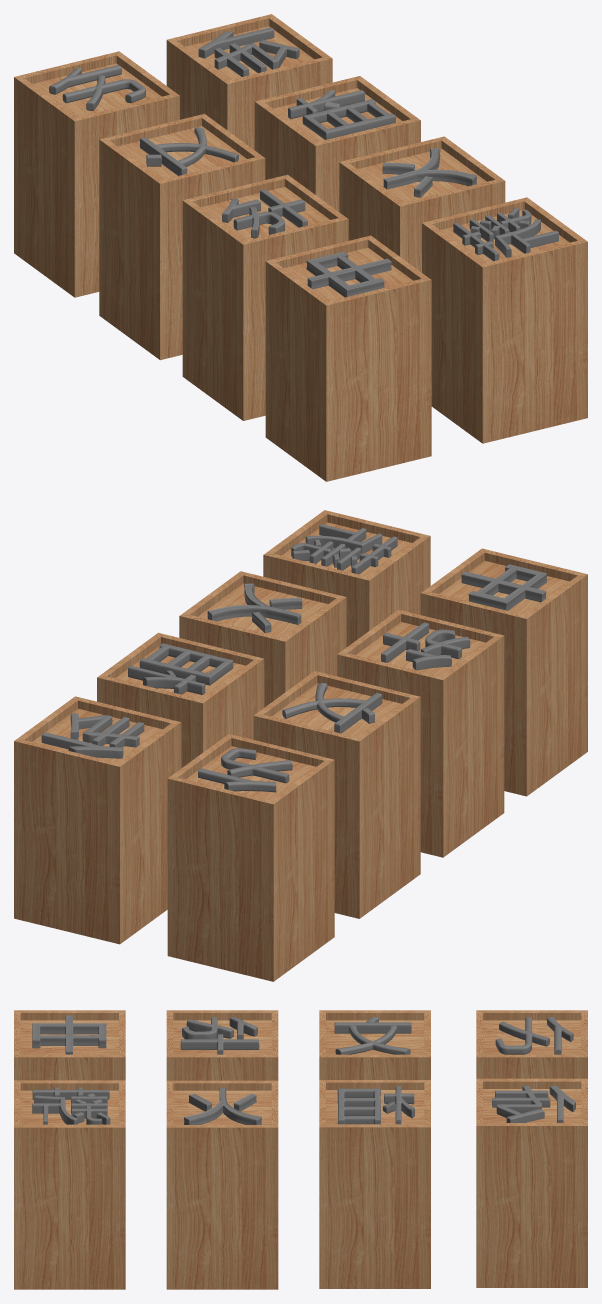
Rendered from 活字印刷术.fbx.
The picture shows the model from 3 angles, top to bottom: view 1: azimuth 30°, elevation 25°; view 2: azimuth 150°, elevation 25°; view 3: azimuth 270°, elevation 25°; orthographic projection. The views are drawn at different scales.
Visible parts, largest first — view 1: Box001, Box005, Box004, Box003, Box002, Box006, Box008, Box007, tripo_node_428c502d, tripo_node_c752f9d8, tripo_node_b8163ebf, tripo_node_fd4ff9de (+4 smaller); view 2: Box004, Box008, Box003, Box002, Box001, Box006, Box007, Box005, tripo_node_428c502d, tripo_node_c752f9d8, tripo_node_b8163ebf, tripo_node_fd93b1ff (+4 smaller); view 3: Box006, Box008, Box005, Box007, Box004, Box001, Box003, Box002, tripo_node_428c502d, tripo_node_c752f9d8, tripo_node_b8163ebf, tripo_node_fd93b1ff (+4 smaller).
Boxes of the visible parts, <box> form: Box001: <box>265,235,431,481</box>; Box005: <box>422,197,587,443</box>; Box004: <box>14,51,179,297</box>; Box003: <box>99,114,265,360</box>; Box002: <box>182,174,348,420</box>; Box006: <box>339,136,505,272</box>; Box008: <box>166,14,332,149</box>; Box007: <box>254,76,420,211</box>; tripo_node_428c502d: <box>288,90,395,139</box>; tripo_node_c752f9d8: <box>453,208,558,261</box>; tripo_node_b8163ebf: <box>198,27,299,76</box>; tripo_node_fd4ff9de: <box>306,251,391,297</box>; Box004: <box>167,734,334,981</box>; Box008: <box>14,696,181,944</box>; Box003: <box>253,671,420,918</box>; Box002: <box>337,609,504,857</box>; Box001: <box>420,548,587,796</box>; Box006: <box>179,571,346,707</box>; Box007: <box>97,632,264,768</box>; Box005: <box>263,510,430,646</box>; tripo_node_428c502d: <box>128,643,233,694</box>; tripo_node_c752f9d8: <box>291,524,397,574</box>; tripo_node_b8163ebf: <box>41,713,144,758</box>; tripo_node_fd93b1ff: <box>381,622,470,670</box>; Box006: <box>166,1080,278,1289</box>; Box008: <box>476,1078,587,1287</box>; Box005: <box>14,1080,125,1289</box>; Box007: <box>319,1080,430,1288</box>; Box004: <box>476,1010,587,1078</box>; Box001: <box>14,1010,125,1080</box>; Box003: <box>319,1010,430,1079</box>; Box002: <box>166,1010,278,1080</box>; tripo_node_428c502d: <box>337,1086,414,1124</box>; tripo_node_c752f9d8: <box>32,1087,110,1124</box>; tripo_node_b8163ebf: <box>492,1085,575,1122</box>; tripo_node_fd93b1ff: <box>180,1017,259,1054</box>.
Size of the model in its own units: 124 by 80.92 by 257.
